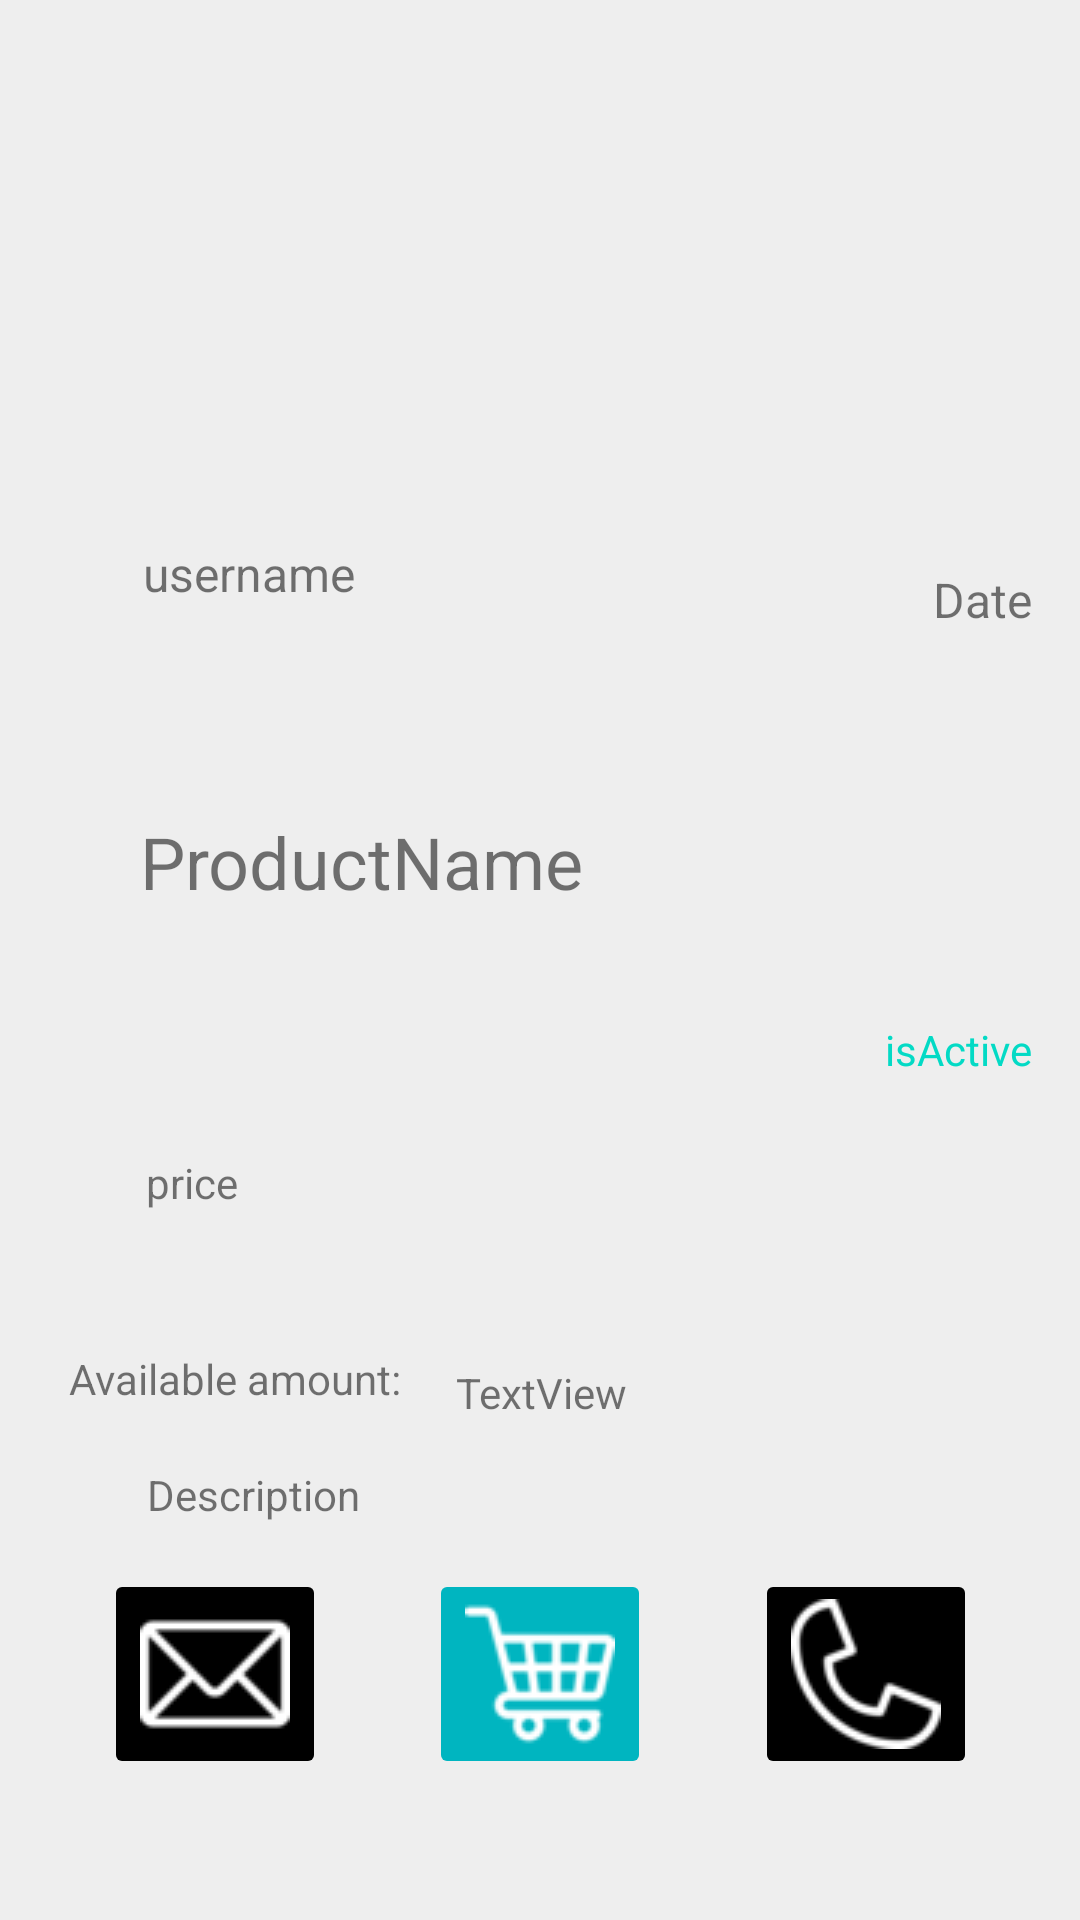

Where icons sit on this 1080 x 1920 app screen, as [x1,y1,x2,y2]:
cart: [441,1587,639,1761]
email: [116,1587,314,1761]
phone: [767,1587,965,1761]
